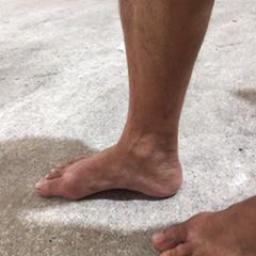Medial View -Right Foot-: (31, 116, 189, 206)
